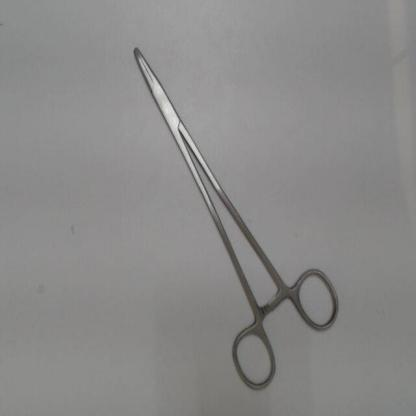8 Mayo Needle Holder: (122, 29, 349, 402)
